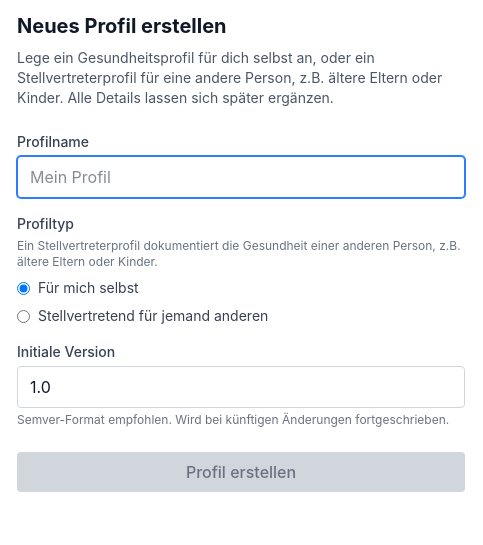
Test case: ProfileCreateForm › error state shows message
Type "Test" into the field labelled "Profilname" at (241, 177), box [17,156,465,198]
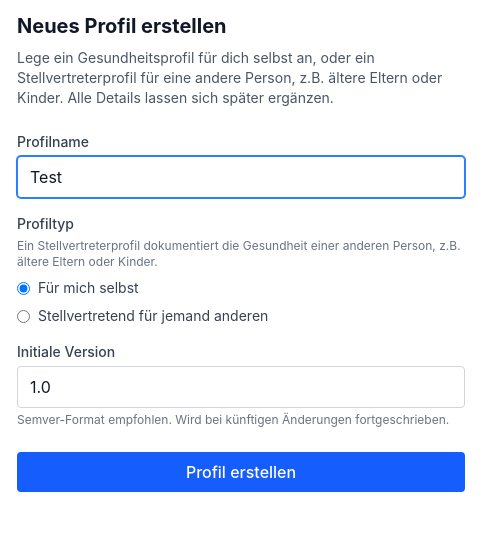
Click the button "Profil erstellen" at (241, 472), box [17,452,465,492]
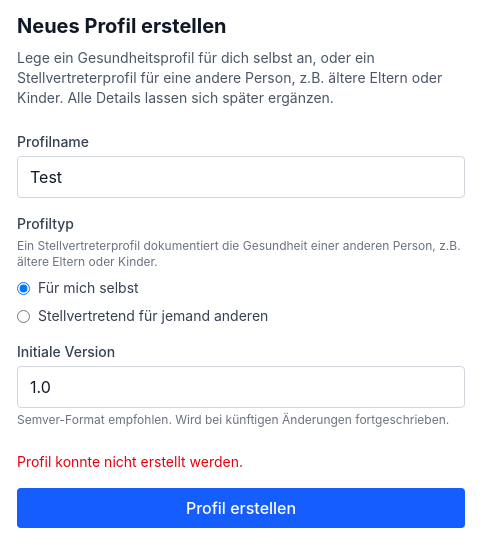
Expected: the message "Profil konnte nicht erstellt werden." is shown, [17,453,243,470]
